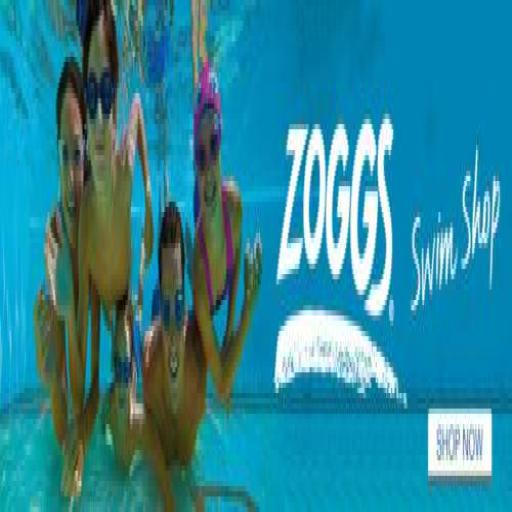swimming: (33, 0, 264, 507), (186, 62, 264, 409)
